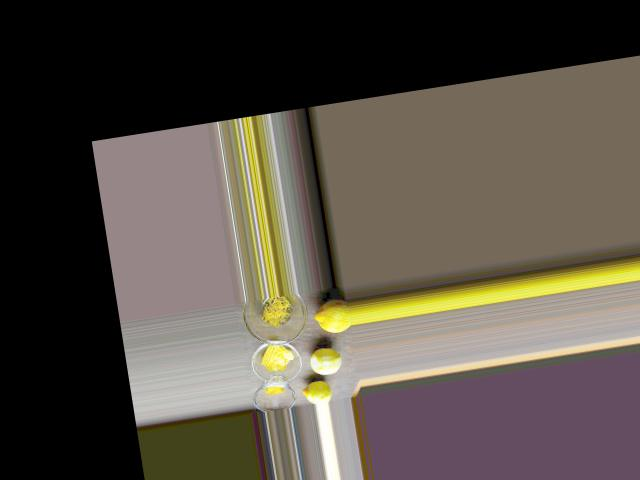lemon: (308, 300, 349, 335)
